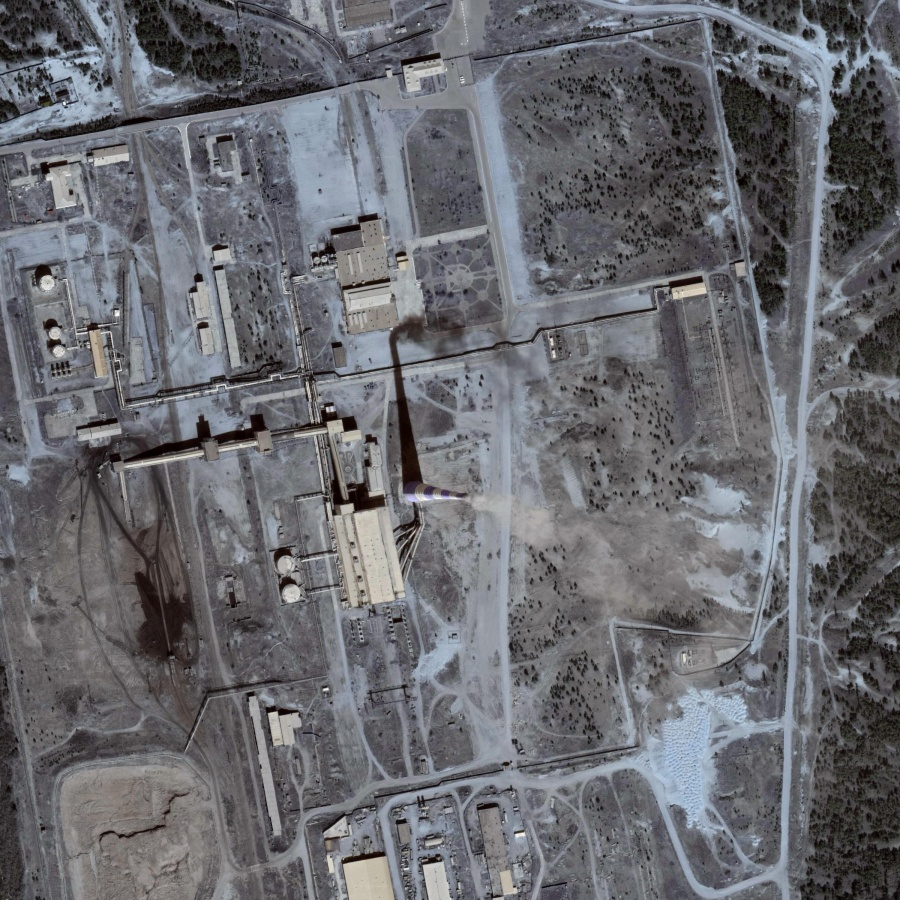PowerPlant: (14, 251, 492, 679)
